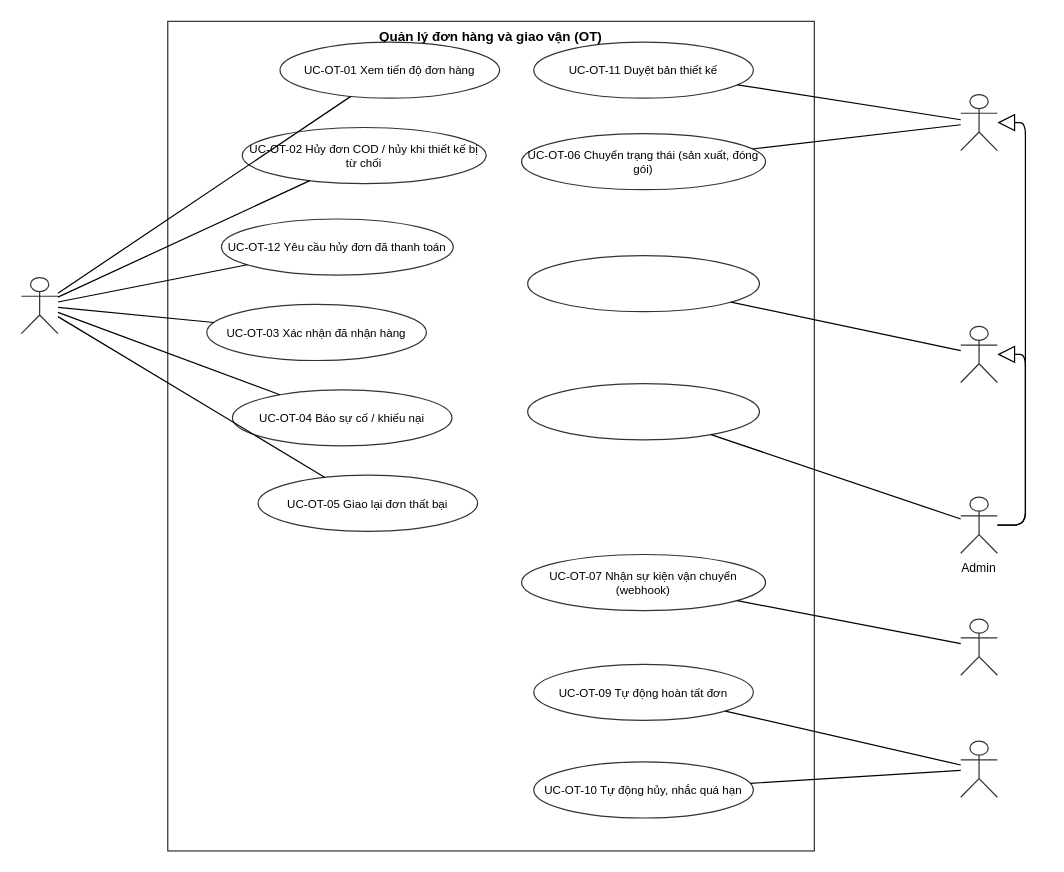
Image size: 1064x872. Some labels were removed from this diagram. Here are the shapes that lost their labels. From the top down, the centre of each, then its label:
At (x=978, y=122): "Operator".
At (x=642, y=283): "UC-OT-08 Xử lý yêu cầu hủy, khiếu nại".
At (x=39, y=305): "Khách hàng".
At (x=978, y=353): "CSKH".
At (x=642, y=411): "UC-OT-13 Duyệt, ghi nhận hoàn tiền".
At (x=978, y=646): "Đơn vị vận chuyển".
At (x=978, y=768): "Bộ lập lịch".
